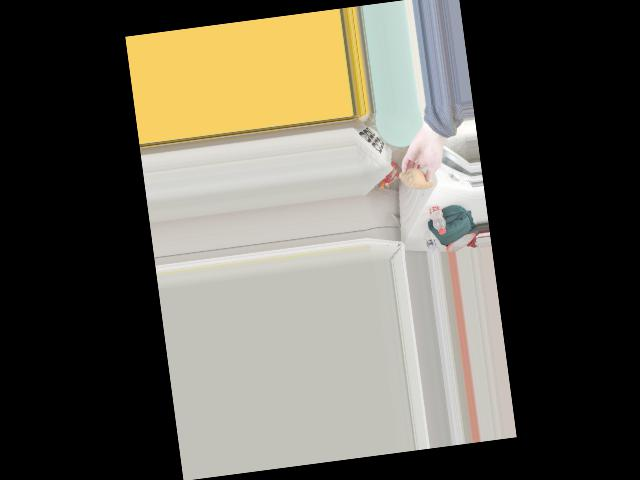sweet_potato: (401, 162, 433, 191)
